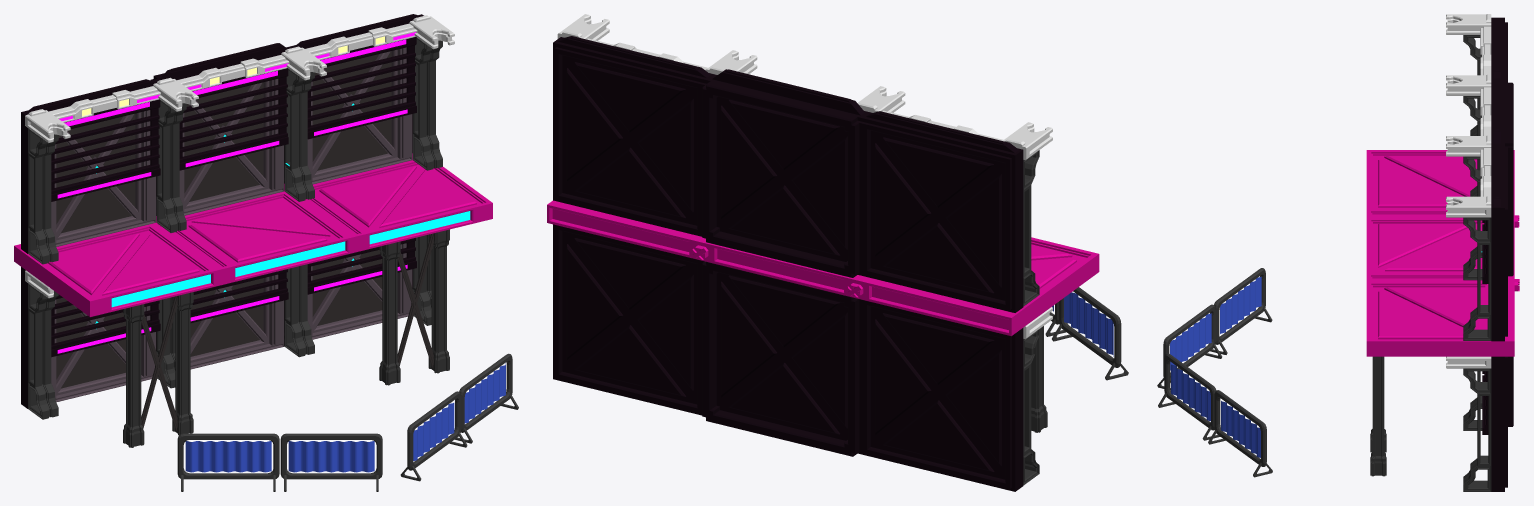
File: Ibarrier.fbx
The picture shows the model from 3 angles, left to right: view 1: azimuth 30°, elevation 25°; view 2: azimuth 150°, elevation 25°; view 3: azimuth 270°, elevation 25°; orthographic projection. The views are drawn at different scales.
Visible parts, largest first — view 1: Plane.068; view 2: Plane.068; view 3: Plane.068.
Part boxes in pixels (<box>): Plane.068: <box>14,14,518,491</box>; Plane.068: <box>547,14,1128,491</box>; Plane.068: <box>1157,14,1519,491</box>.
Size of the model in its own units: 2097 by 1502 by 1665.
